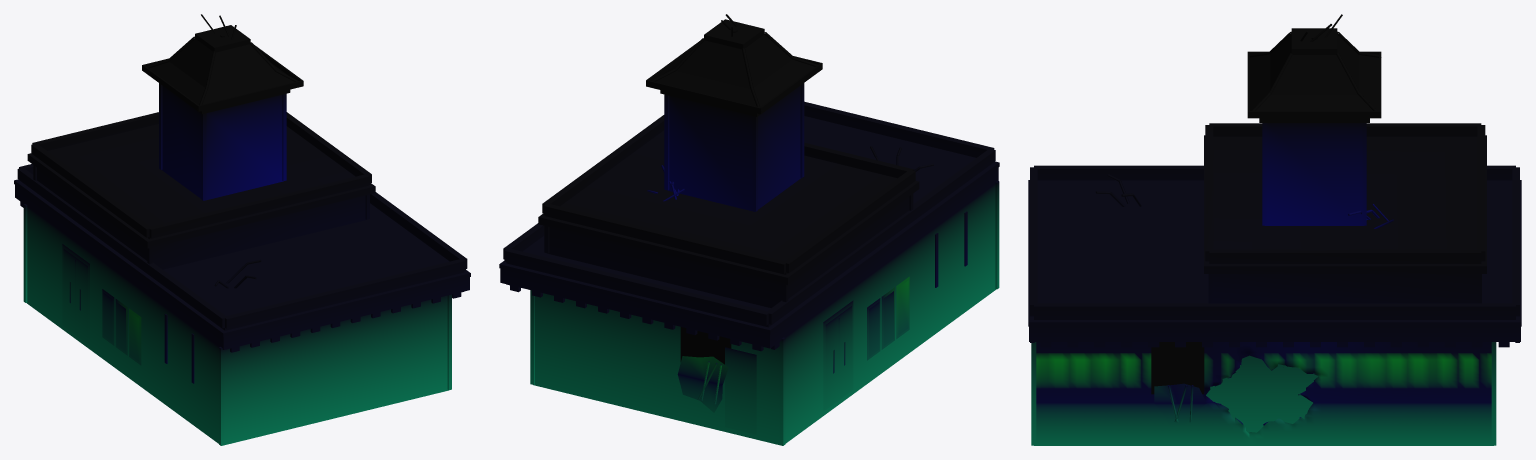
Rendered from l_residenceright_damaged.glb.
The picture shows the model from 3 angles, left to right: view 1: azimuth 30°, elevation 25°; view 2: azimuth 150°, elevation 25°; view 3: azimuth 270°, elevation 25°; orthographic projection. The views are drawn at different scales.
Visible parts, largest first — view 1: lod0; view 2: lod0; view 3: lod0.
Boxes of the visible parts, x1,y1,x2,y2 form: lod0: (14,14,470,445); lod0: (499,14,999,445); lod0: (1028,14,1521,445).
Size of what is drawn, in the model's own units: 21.4 by 25.44 by 31.2.
